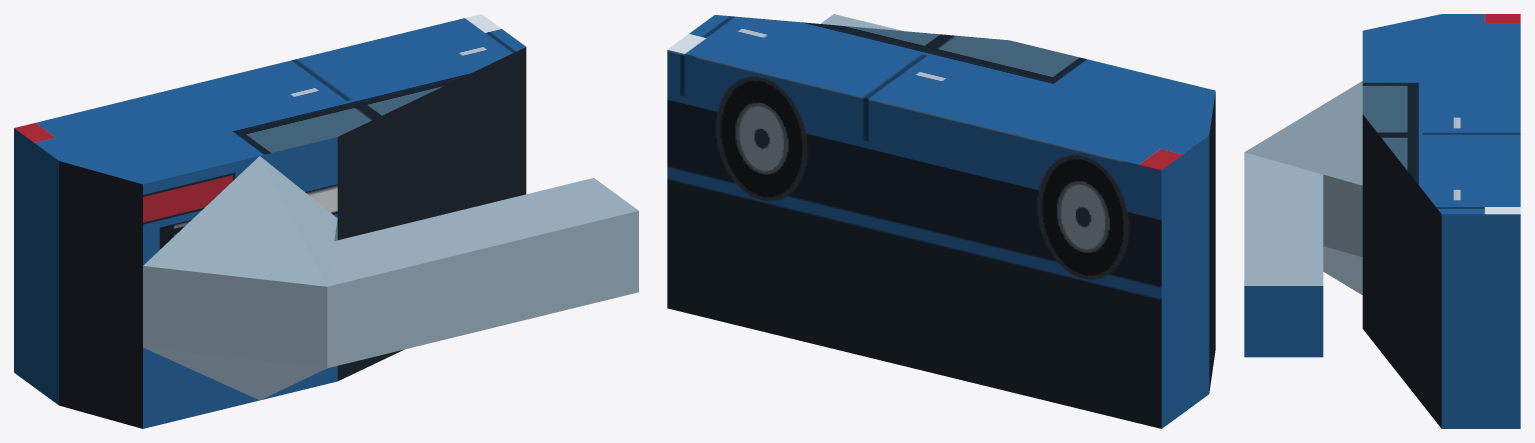
The model's file is car_textured.obj.
The picture shows the model from 3 angles, left to right: view 1: azimuth 30°, elevation 25°; view 2: azimuth 150°, elevation 25°; view 3: azimuth 270°, elevation 25°; orthographic projection. The views are drawn at different scales.
Parts seen in each view (by area): view 1: car; view 2: car; view 3: car.
Boxes of the visible parts, x1=… form: car: x1=14, y1=14, x2=638, y2=428; car: x1=667, y1=14, x2=1215, y2=428; car: x1=1244, y1=14, x2=1520, y2=428.
Size of the model in its own units: 6 by 3 by 3.5.
1 material, 1 textured.
